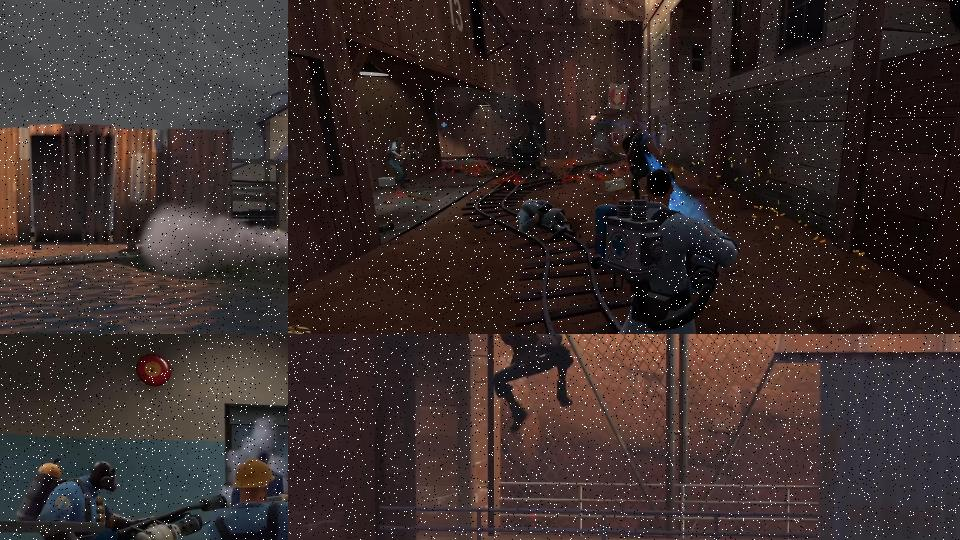Enemy: (587, 167, 740, 334), (14, 462, 229, 540), (487, 334, 585, 436), (204, 452, 288, 540), (621, 123, 675, 200), (516, 198, 577, 241), (385, 136, 426, 184), (136, 358, 181, 388)
